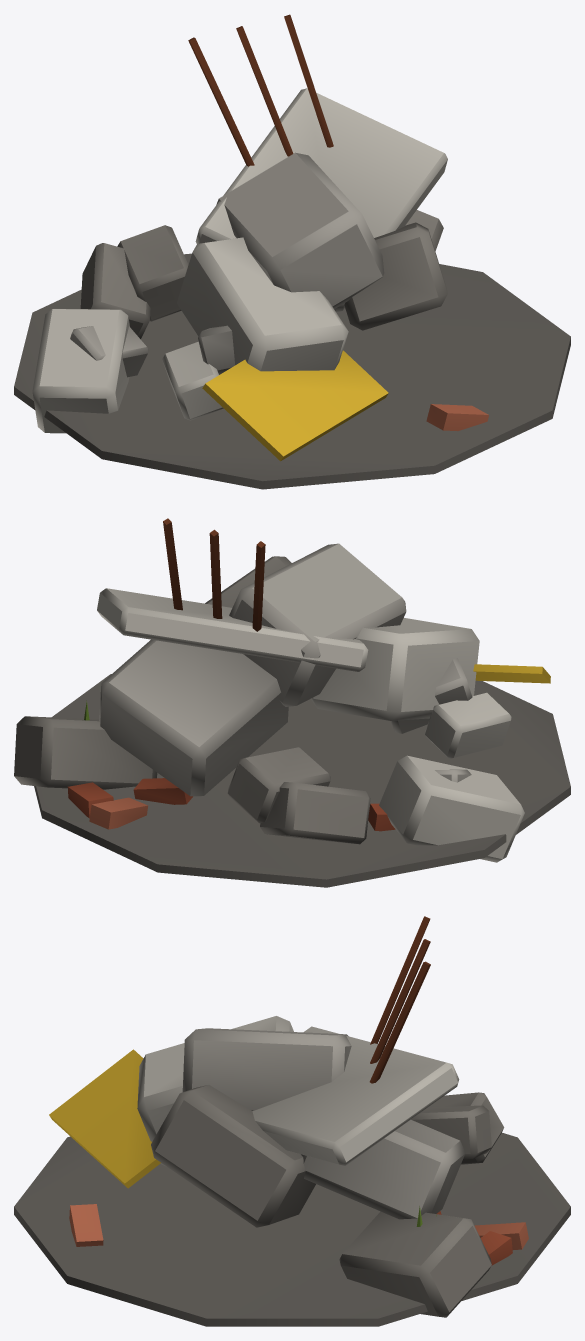
The model's file is p_st_rubble_3.glb.
3 views of the same model, one above another, from view 1: azimuth 30°, elevation 25°; view 2: azimuth 150°, elevation 25°; view 3: azimuth 270°, elevation 25° (orthographic). The views are drawn at different scales.
Visible parts, largest first — view 1: body; view 2: body; view 3: body.
Part boxes in pixels (<box>): body: <box>14,14,570,489</box>; body: <box>14,518,570,887</box>; body: <box>14,916,570,1326</box>.
Size of the model in its own units: 3.01 by 1.89 by 3.1.
